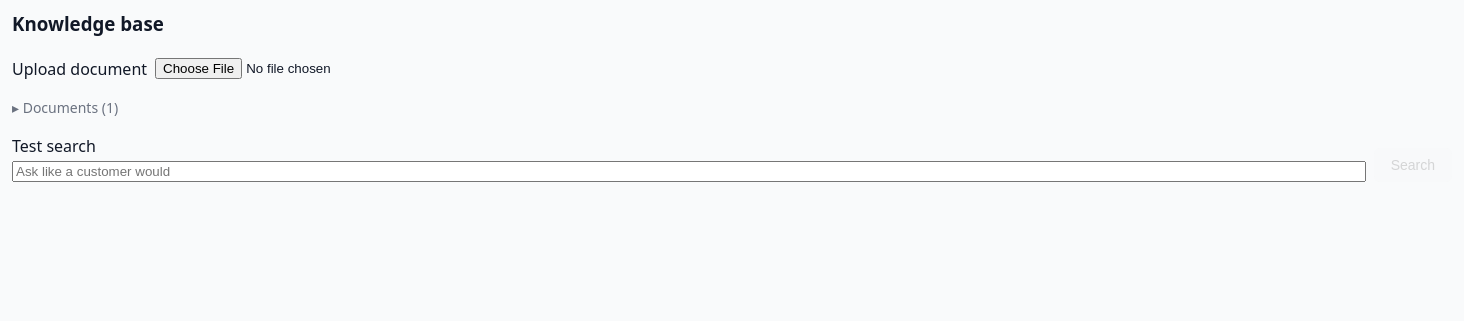
Test: KnowledgeBasePanel › clears the test-search box and its results with the clear button
Type "reset" into the field labelled "Test search" at (689, 171), box [12,160,1366,182]
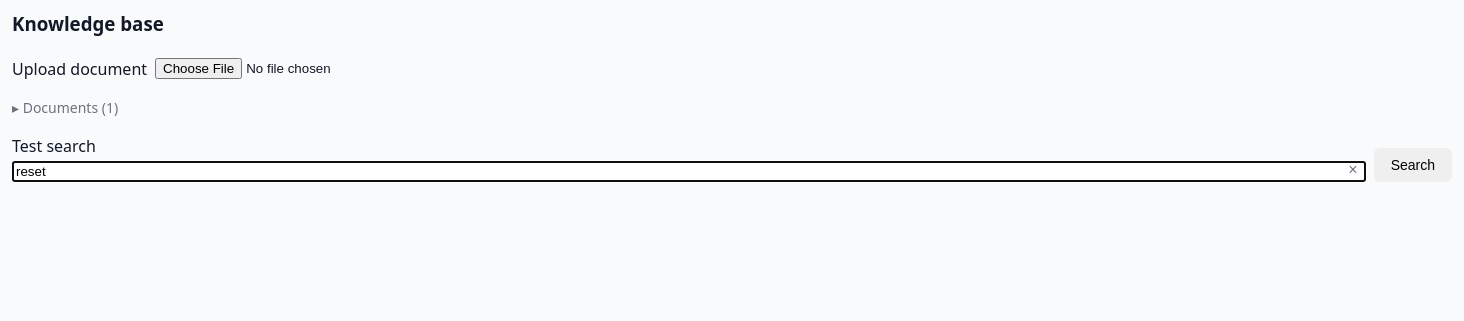
Click the button "Search" at (1413, 164), box [1374,148,1452,182]
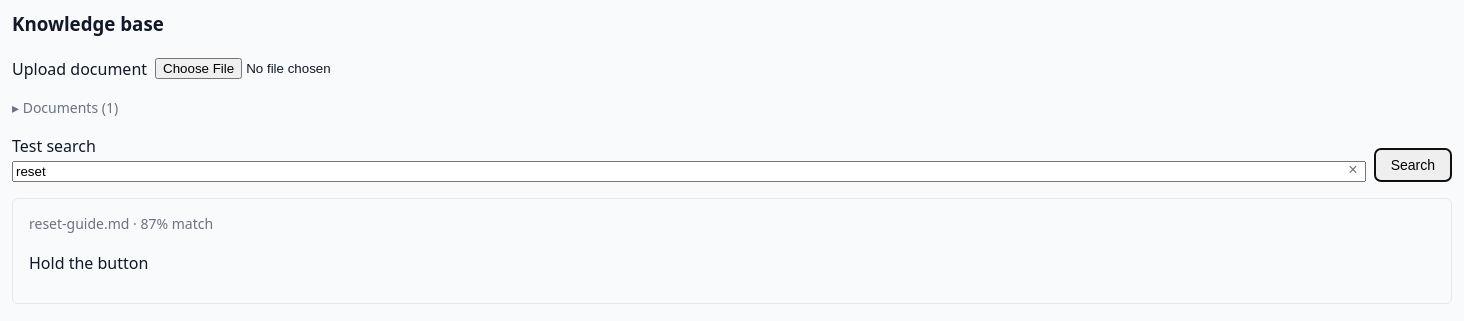
Now the text "Hold the button" is shown, box [29,252,148,274]
Click the button named "clear search" at (1353, 170), box [1344,158,1362,182]
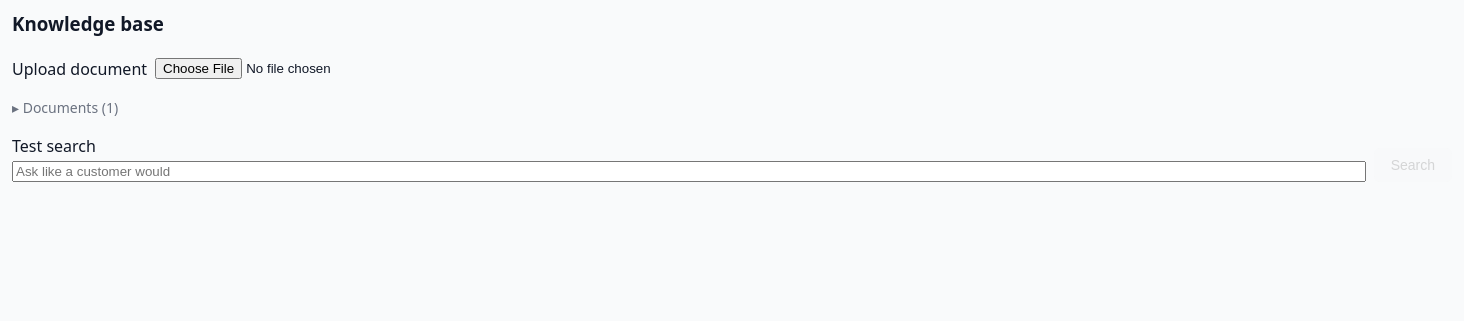
Now the field labelled "Test search" is empty, box [12,160,1366,182]
Now the text "Hold the button" is gone
